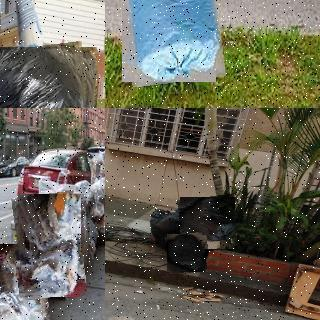Garbage: (117, 0, 221, 84), (15, 192, 84, 299), (0, 44, 104, 108), (41, 179, 98, 265), (0, 242, 48, 320), (179, 196, 236, 251), (149, 206, 194, 250), (166, 233, 206, 273), (77, 179, 105, 217), (88, 146, 105, 190)
